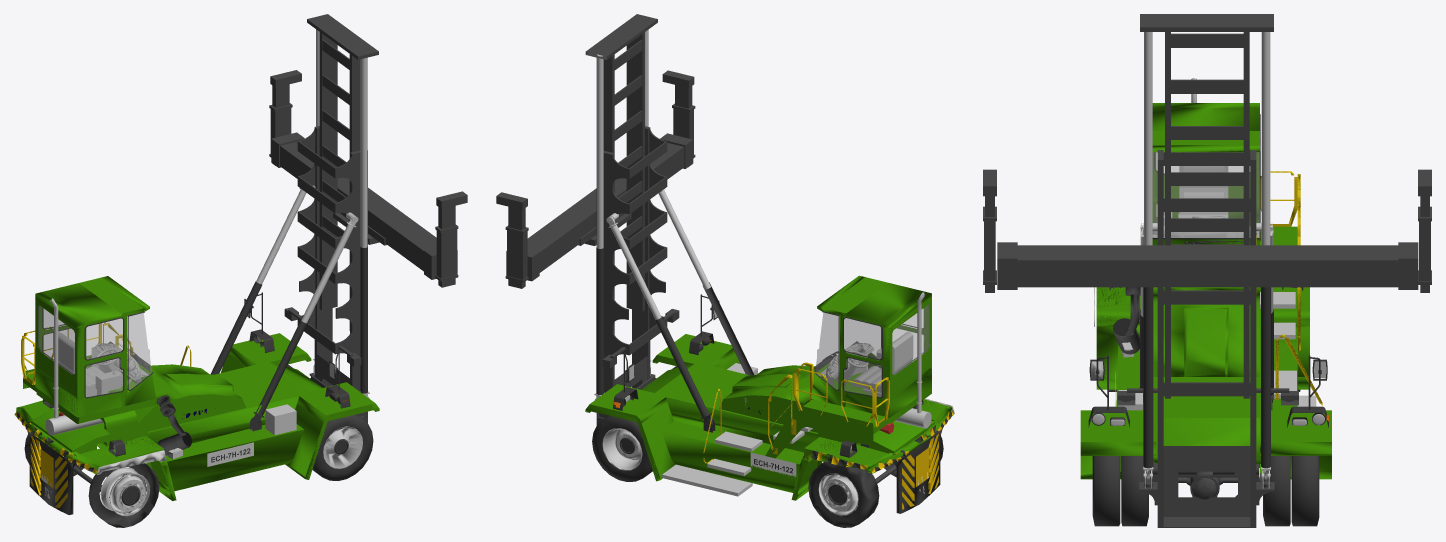
3 renders of one model, left to right at view 1: azimuth 30°, elevation 25°; view 2: azimuth 150°, elevation 25°; view 3: azimuth 270°, elevation 25°, orthographic. The views are drawn at different scales.
Visible parts, largest first — view 1: Group021, entity_1; view 2: Group021, entity_1; view 3: Group021, entity_1.
Boxes of the visible parts, <box> form: Group021: <box>24,14,467,527</box>; entity_1: <box>14,276,379,514</box>; Group021: <box>496,14,954,527</box>; entity_1: <box>585,275,953,513</box>; Group021: <box>983,14,1431,527</box>; entity_1: <box>1080,103,1331,516</box>.
Bounding box in the file's own units: 9.41 × 10.7 × 8.24.
